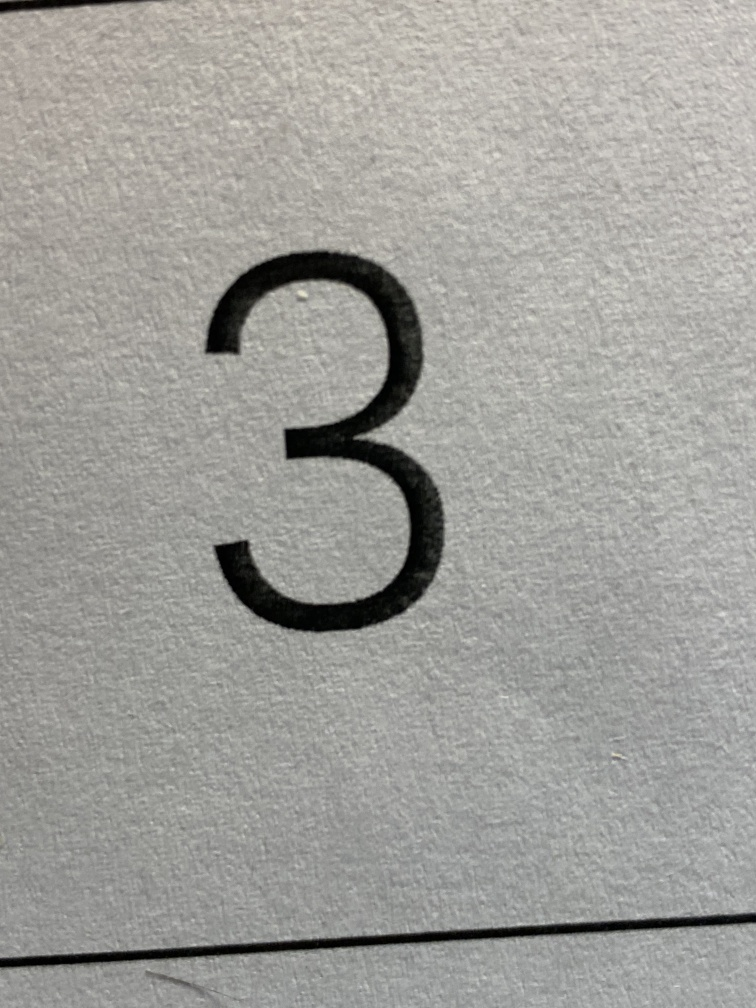three: (144, 209, 497, 687)
